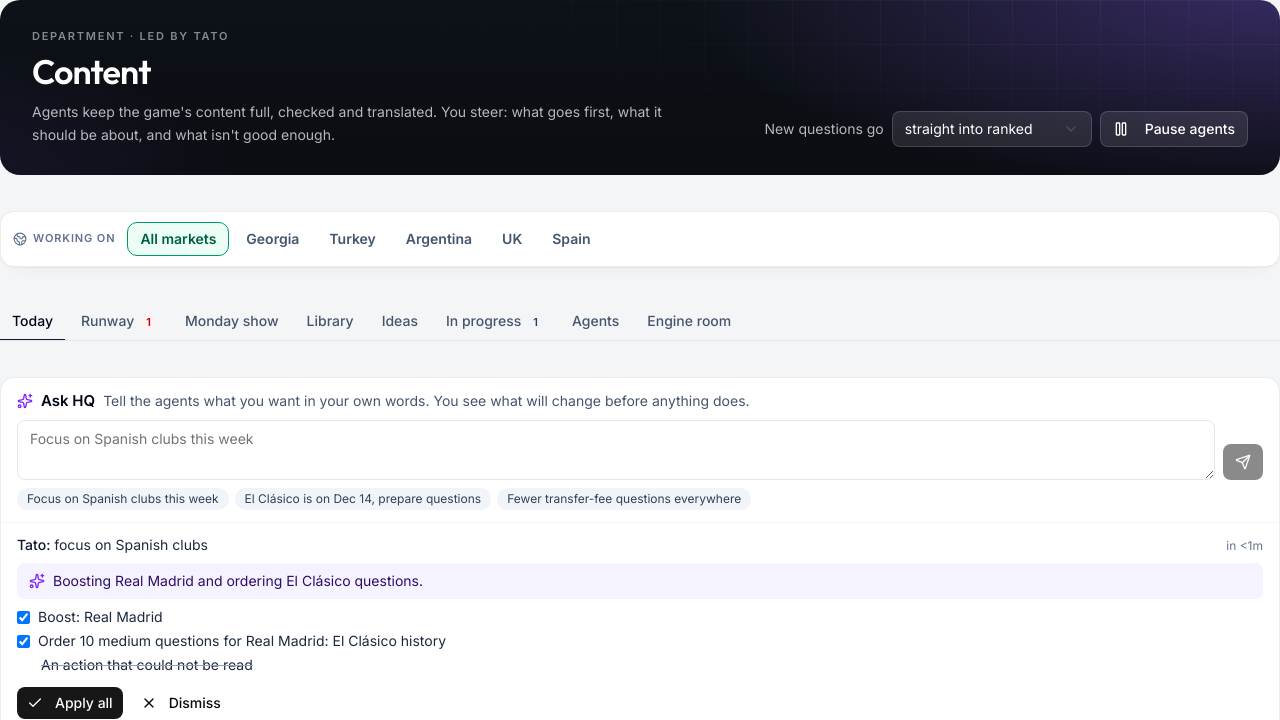
Scenario: keeps the technical view in its own tab, and shows the agents as a team
Expected: the text "Fact Checker" is not shown
Click the tab "Agents".
click(596, 322)  # box [560,302,631,340]
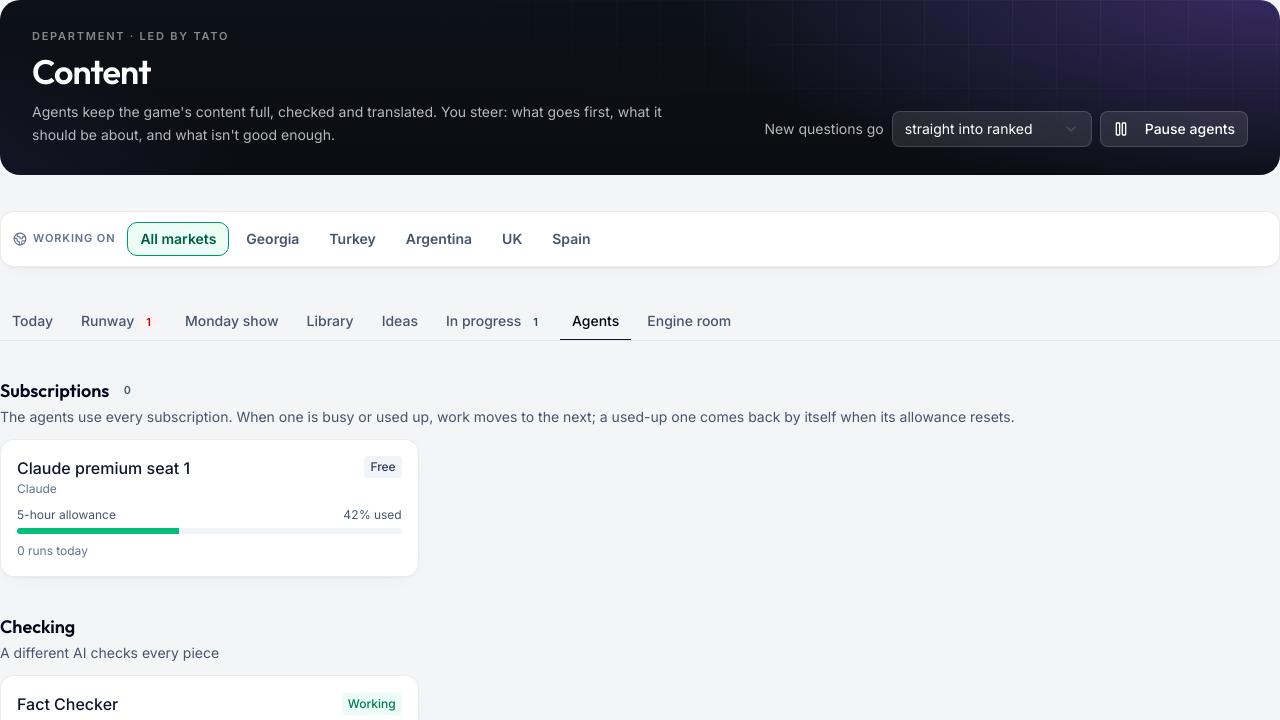
Expected: the heading "Checking" is shown, [0,614,75,638]
Expected: the text "Fact Checker" is shown, [17,692,118,716]
Click the tab "Engine room".
click(689, 322)  # box [635,302,743,340]
(page scrolled)
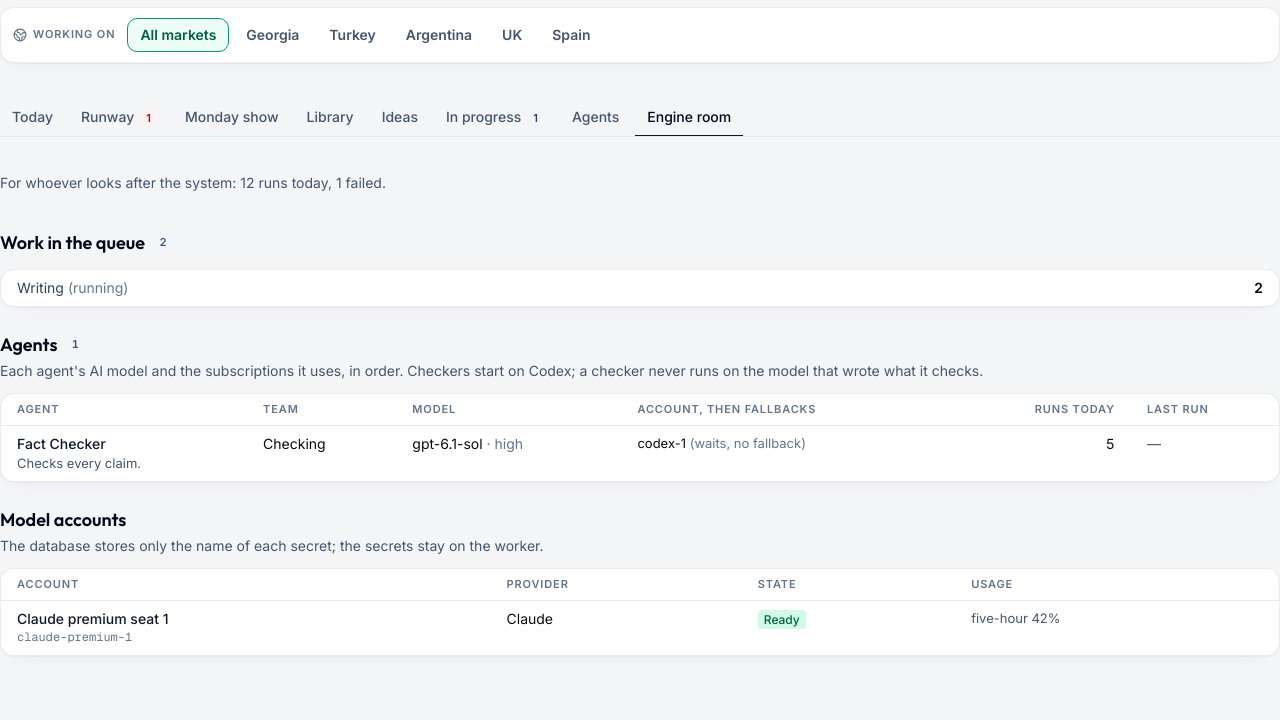
Expected: the text "(waits, no fallback)" is shown, [686,435,806,451]
Expected: the text "five-hour 42%" is shown, [955,601,1279,655]
